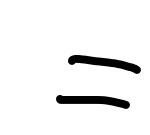eqv: (54, 55, 142, 109)
